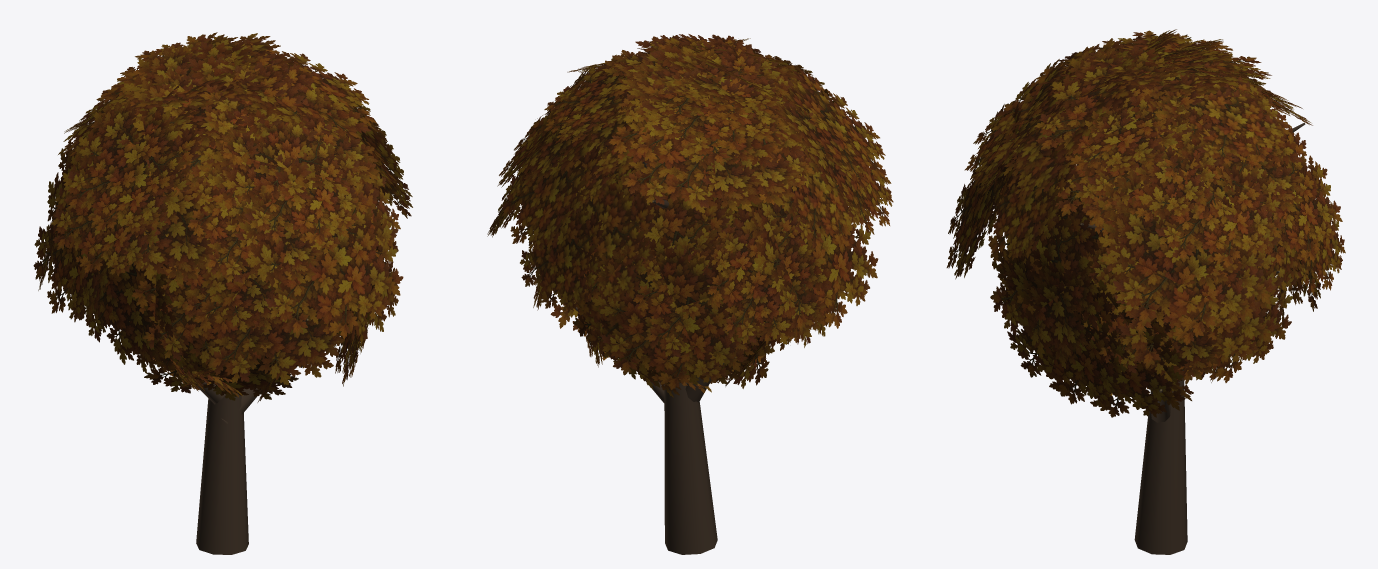
3 renders of one model, left to right at view 1: azimuth 30°, elevation 25°; view 2: azimuth 150°, elevation 25°; view 3: azimuth 270°, elevation 25°, orthographic.
Parts seen in each view (by area): view 1: Bark; view 2: Bark; view 3: Bark.
Part boxes in pixels (bbox=[...]): Bark: bbox=[33, 32, 412, 554]; Bark: bbox=[487, 34, 893, 554]; Bark: bbox=[946, 29, 1345, 554].
Size of the model in its own units: 6.34 by 7.91 by 6.19.
3 materials, 1 textured.
